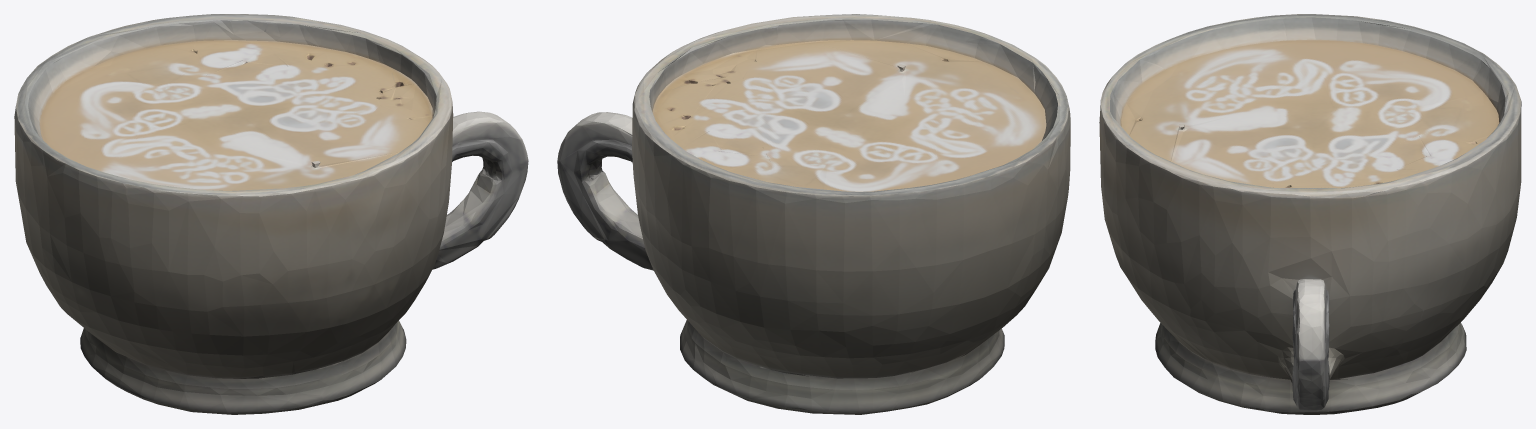
The model's file is cafe.glb.
The picture shows the model from 3 angles, left to right: view 1: azimuth 30°, elevation 25°; view 2: azimuth 150°, elevation 25°; view 3: azimuth 270°, elevation 25°; orthographic projection. The views are drawn at different scales.
Parts seen in each view (by area): view 1: world; view 2: world; view 3: world.
Part boxes in pixels (<box>): world: <box>14,14,528,414</box>; world: <box>557,14,1070,414</box>; world: <box>1099,14,1521,414</box>.
Size of the model in its own units: 0.9926 by 0.4911 by 0.7738.
1 material, 1 textured.
